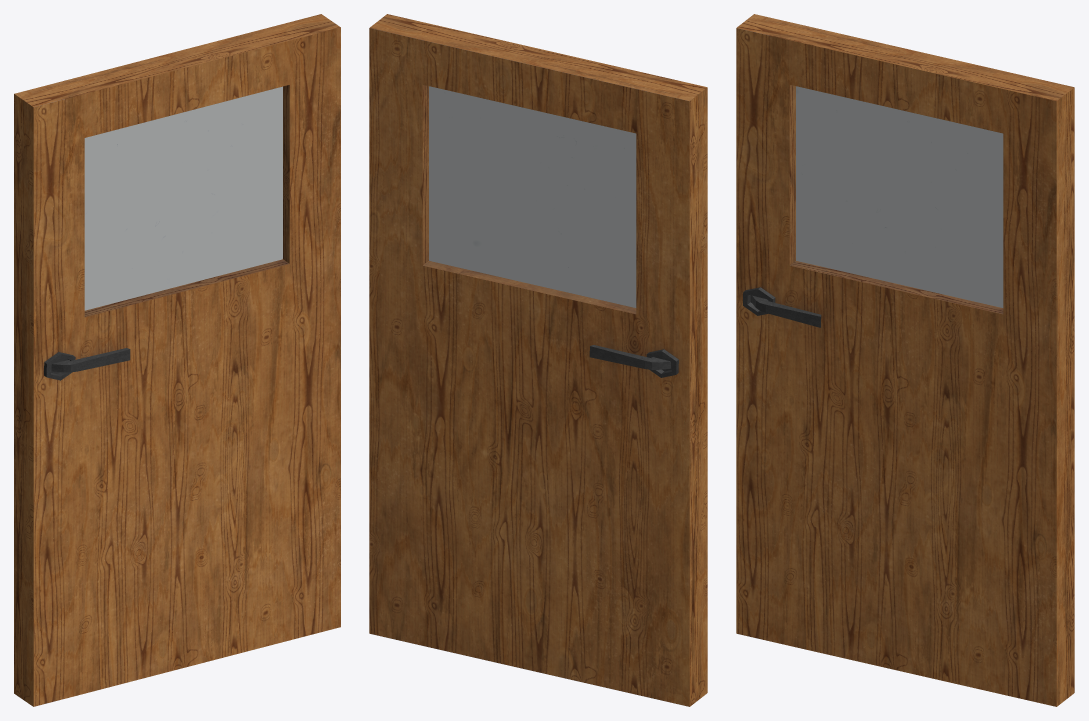
File: door1.fbx
3 renders of one model, left to right at view 1: azimuth 30°, elevation 25°; view 2: azimuth 150°, elevation 25°; view 3: azimuth 330°, elevation 25°, orthographic.
Parts seen in each view (by area): view 1: door2; view 2: door2; view 3: door2.
Part boxes in pixels (left/top/right/bottom): door2: left=14, top=14, right=340, bottom=706; door2: left=369, top=14, right=707, bottom=706; door2: left=736, top=14, right=1074, bottom=706.
Size of the model in its own units: 1.79 by 3.28 by 0.3511.
2 materials, 2 textured.
